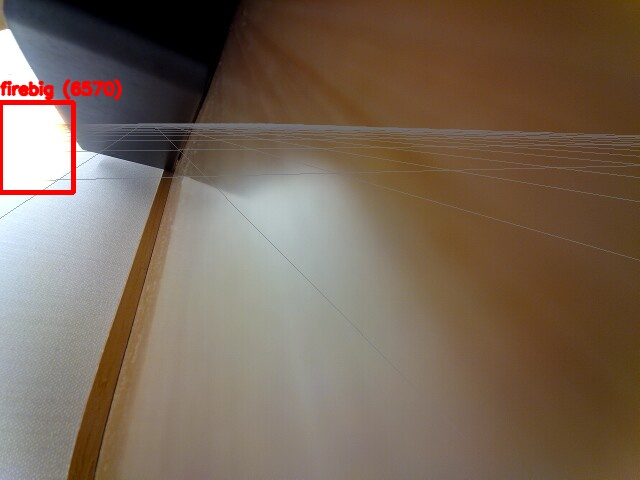firebig: (0, 102, 73, 192)
